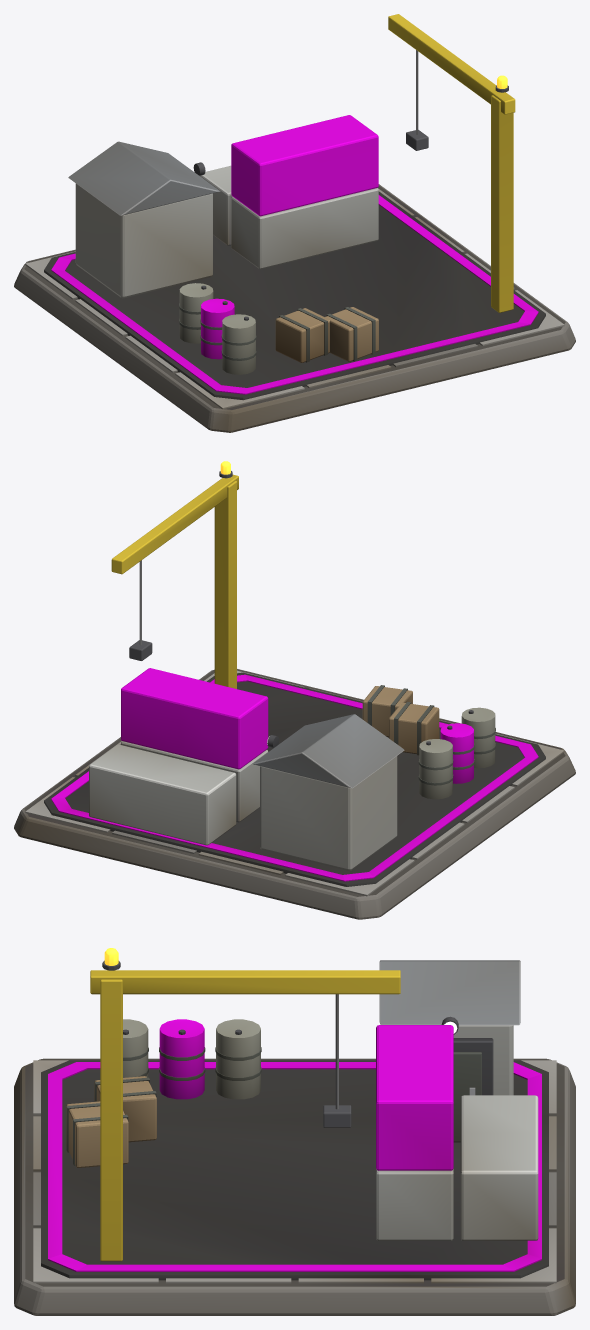
Rendered from supply_depot.glb.
3 renders of one model, top to bottom at view 1: azimuth 30°, elevation 25°; view 2: azimuth 150°, elevation 25°; view 3: azimuth 270°, elevation 25°, orthographic. The views are drawn at different scales.
Parts seen in each view (by area): view 1: Body; view 2: Body; view 3: Body.
Part boxes in pixels (x1=…): Body: x1=14, y1=14, x2=575, y2=432; Body: x1=14, y1=461, x2=575, y2=919; Body: x1=14, y1=948, x2=575, y2=1315.
Bounding box in the file's own units: 3.98 × 2.65 × 3.98.
Materials: 1 (1 with a texture image).
